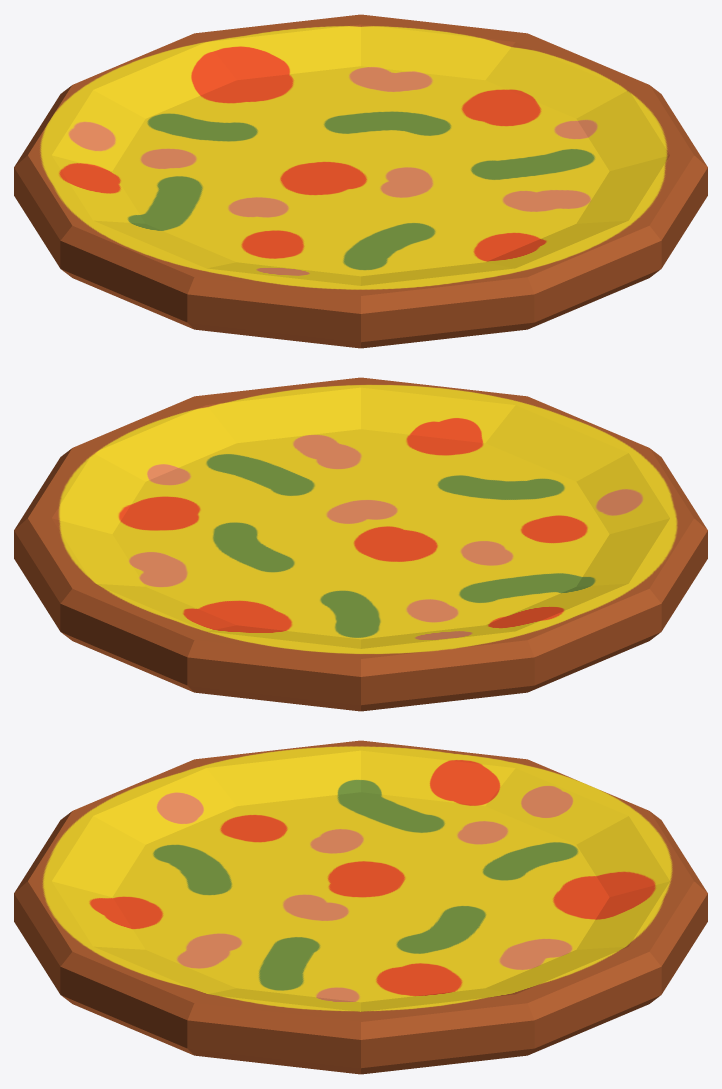
The model's file is Pizza.fbx.
The picture shows the model from 3 angles, top to bottom: view 1: azimuth 30°, elevation 25°; view 2: azimuth 150°, elevation 25°; view 3: azimuth 270°, elevation 25°; orthographic projection.
Visible parts, largest first — view 1: Pizza; view 2: Pizza; view 3: Pizza.
Boxes of the visible parts, left/top/right/bottom form: Pizza: left=14, top=14, right=707, bottom=348; Pizza: left=14, top=377, right=707, bottom=711; Pizza: left=14, top=740, right=707, bottom=1074.
Bounding box in the file's own units: 0.6 × 0.05 × 0.6.
1 material, 1 textured.
